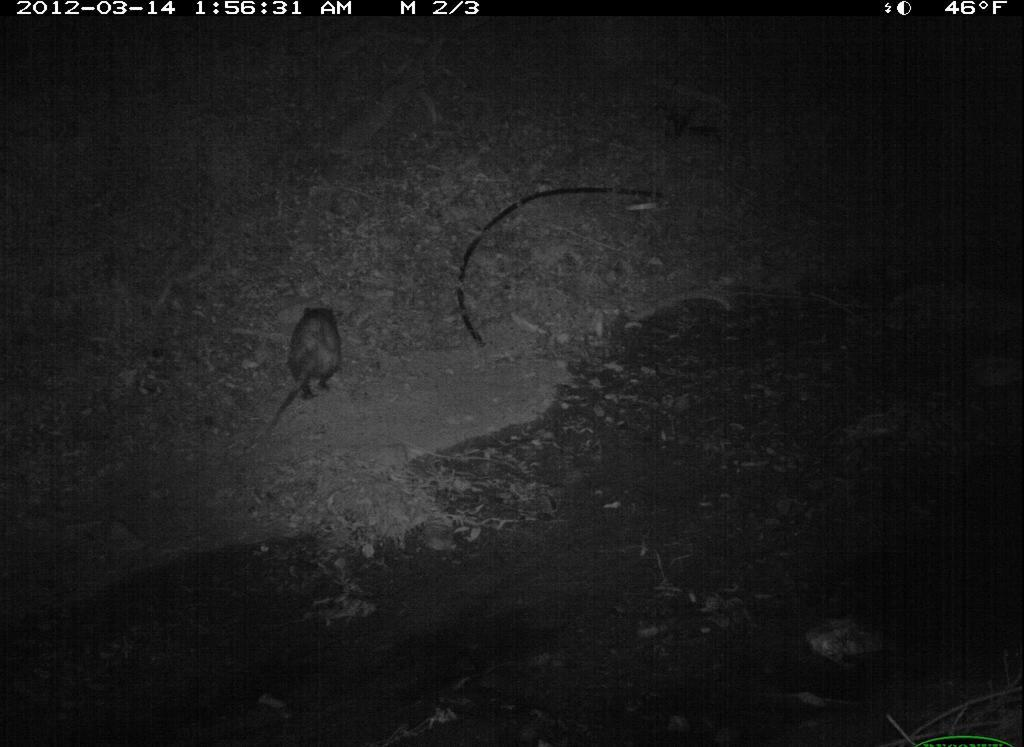opossum: (258, 300, 336, 440)
